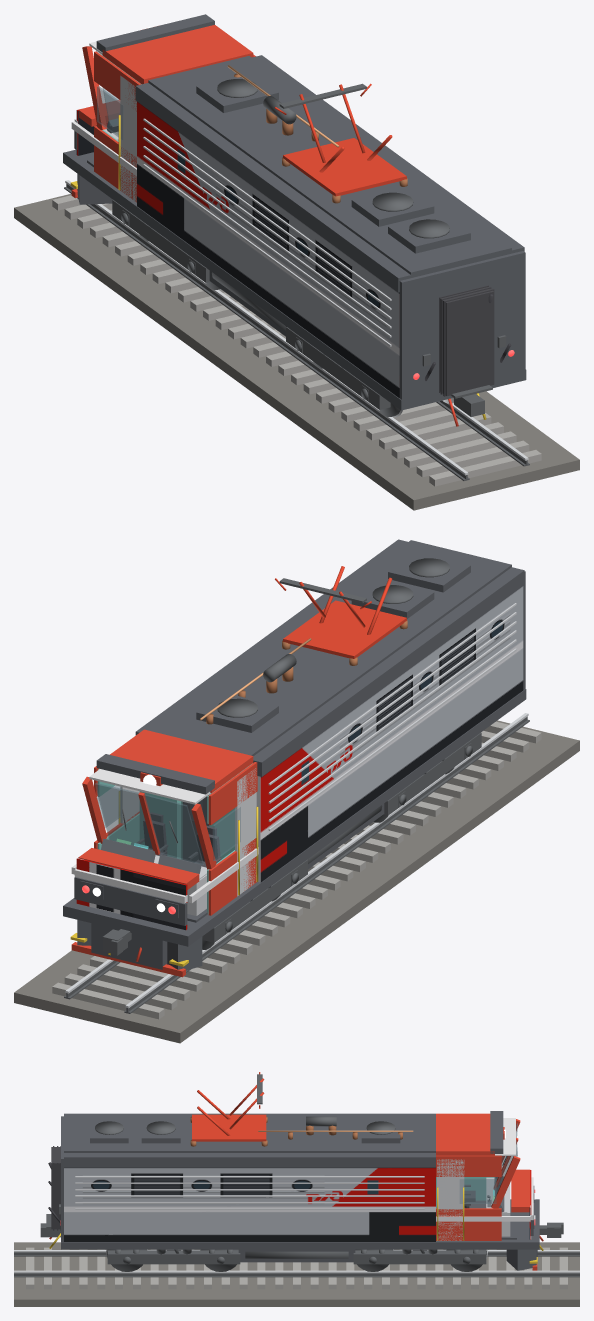
Rendered from ermak_3es5k.glb.
3 renders of one model, top to bottom at view 1: azimuth 30°, elevation 25°; view 2: azimuth 150°, elevation 25°; view 3: azimuth 270°, elevation 25°, orthographic. The views are drawn at different scales.
Visible parts, largest first — view 1: Ermak_3ES5K_Body, Railway_Track, Ermak_Rear_Gangway, Ermak_Roof_Equipment, Ermak_Bogies, Ermak_Windows; view 2: Ermak_3ES5K_Body, Railway_Track, Ermak_Roof_Equipment, Ermak_Cab_Interior, Ermak_Windows, Ermak_Bogies, Ermak_Lights, Ermak_Couplers; view 3: Ermak_3ES5K_Body, Railway_Track, Ermak_Roof_Equipment, Ermak_Bogies, Ermak_Cab_Interior, Ermak_Rear_Gangway, Ermak_Windows, Ermak_Couplers.
Part boxes in pixels (bbox=[...]): Ermak_3ES5K_Body: bbox=[63, 14, 526, 410]; Railway_Track: bbox=[14, 180, 579, 510]; Ermak_Rear_Gangway: bbox=[399, 251, 525, 426]; Ermak_Roof_Equipment: bbox=[196, 65, 470, 253]; Ermak_Bogies: bbox=[112, 200, 453, 417]; Ermak_Windows: bbox=[96, 50, 123, 140]; Ermak_3ES5K_Body: bbox=[63, 539, 526, 977]; Railway_Track: bbox=[14, 713, 579, 1043]; Ermak_Roof_Equipment: bbox=[196, 552, 470, 732]; Ermak_Cab_Interior: bbox=[89, 763, 252, 922]; Ermak_Windows: bbox=[95, 783, 240, 864]; Ermak_Bogies: bbox=[202, 732, 481, 949]; Ermak_Lights: bbox=[80, 772, 178, 918]; Ermak_Couplers: bbox=[102, 929, 141, 961]; Ermak_3ES5K_Body: bbox=[61, 1111, 539, 1270]; Railway_Track: bbox=[14, 1242, 579, 1306]; Ermak_Roof_Equipment: bbox=[90, 1072, 413, 1146]; Ermak_Bogies: bbox=[106, 1249, 487, 1271]; Ermak_Cab_Interior: bbox=[436, 1118, 516, 1239]; Ermak_Rear_Gangway: bbox=[46, 1116, 63, 1248]; Ermak_Windows: bbox=[460, 1123, 518, 1203]; Ermak_Couplers: bbox=[40, 1222, 563, 1250].
Size of the model in its own units: 4.2 by 6.58 by 17.5.
28 materials, 3 textured.
